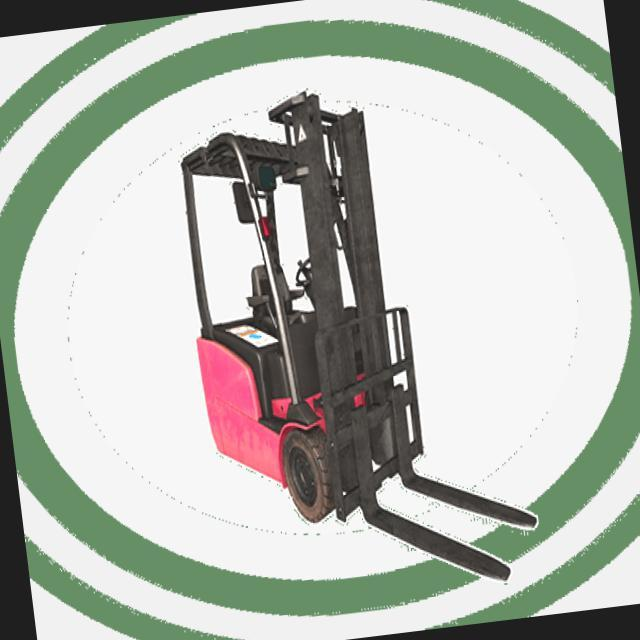forklift: (162, 69, 446, 548)
